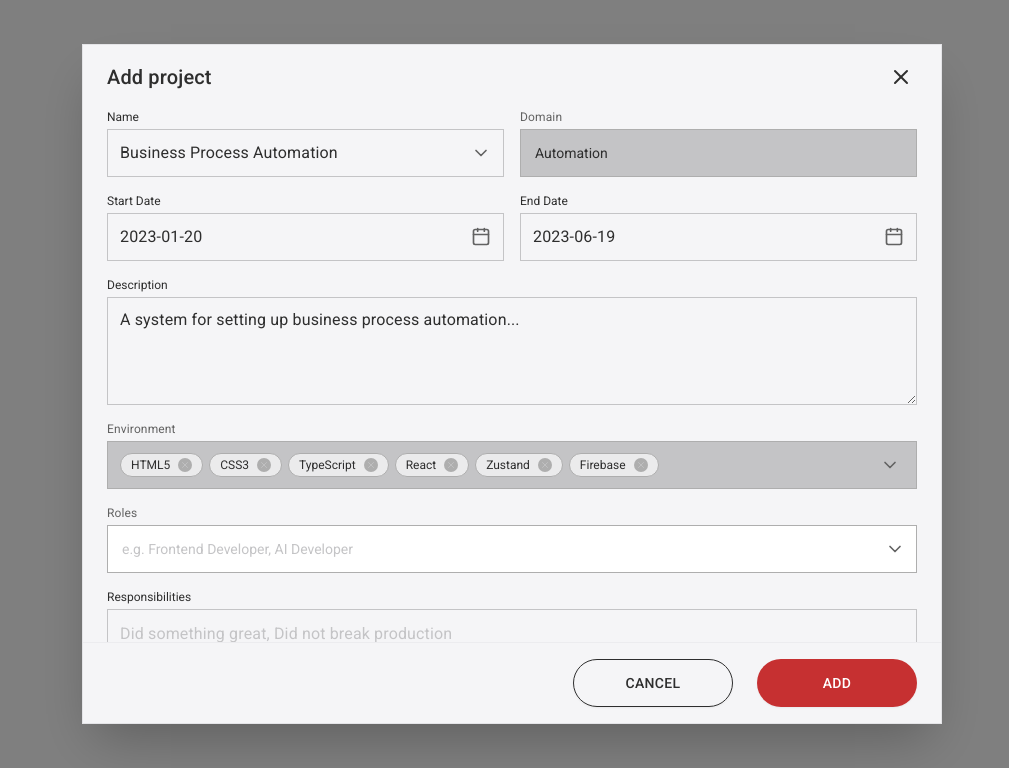
Test: CVProjectDialog Component › switches project details when changing selected project in Add mode
Expected: the heading "Add project" is shown, [107,65,212,89]
Click the dropdown named "Name" at (306, 153), box [107,129,504,177]
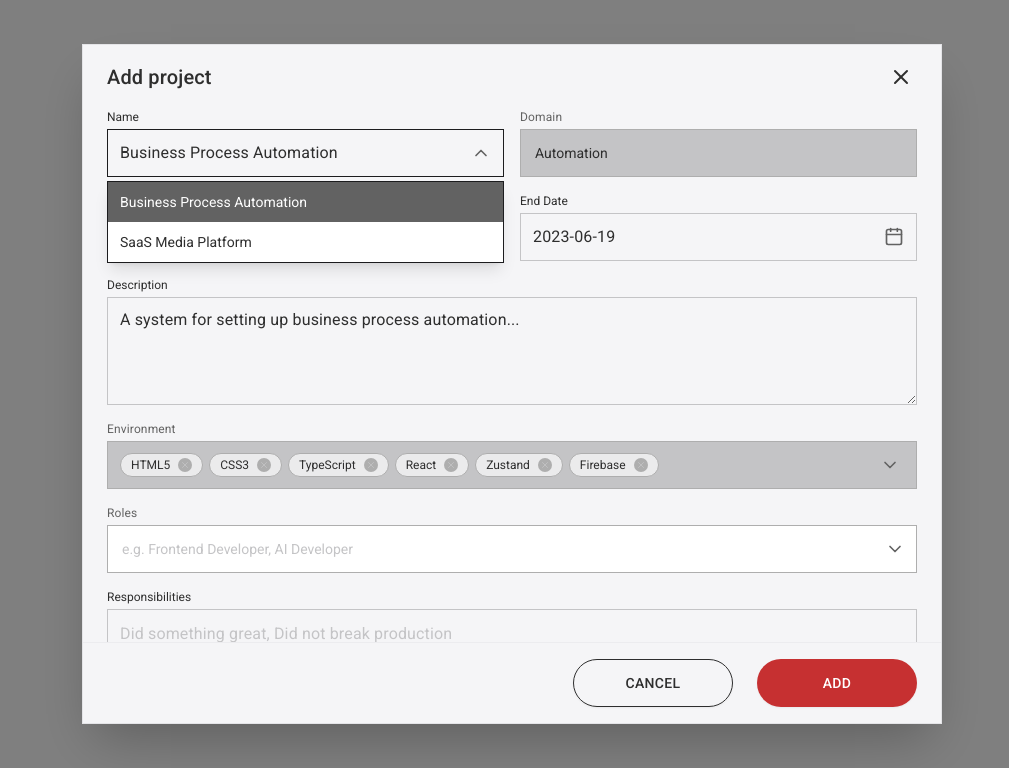
Click the option "SaaS Media Platform" at (186, 242), box [120,234,252,250]
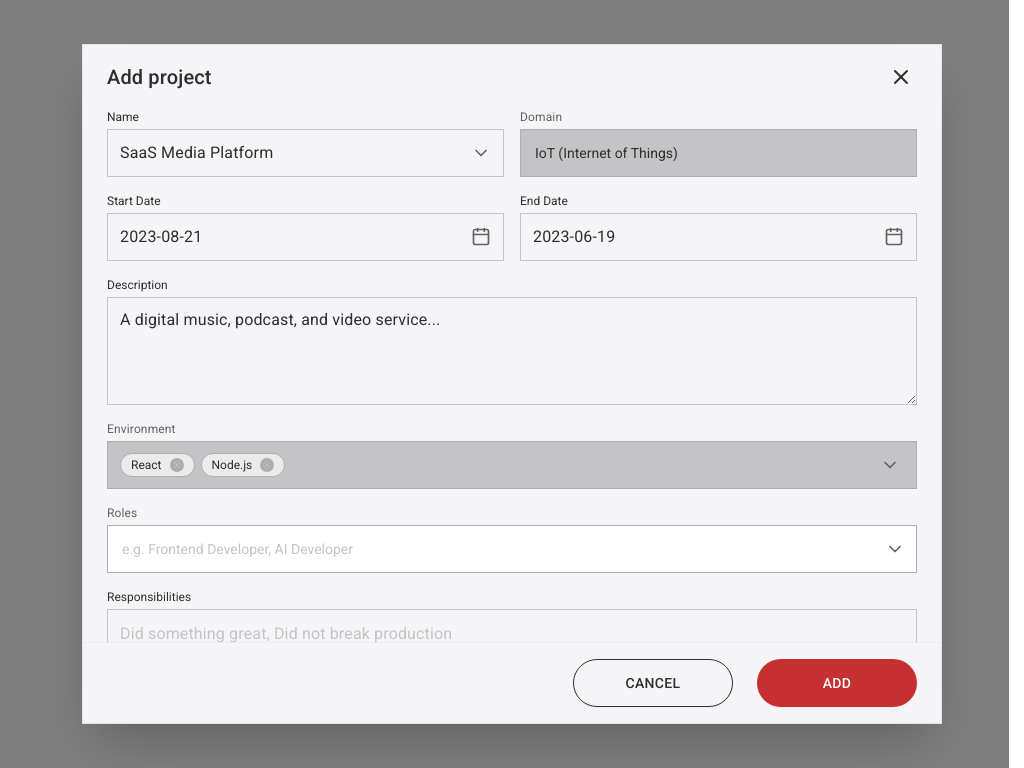
Expected: the text "IoT (Internet of Things)" is shown, [520,129,917,177]
